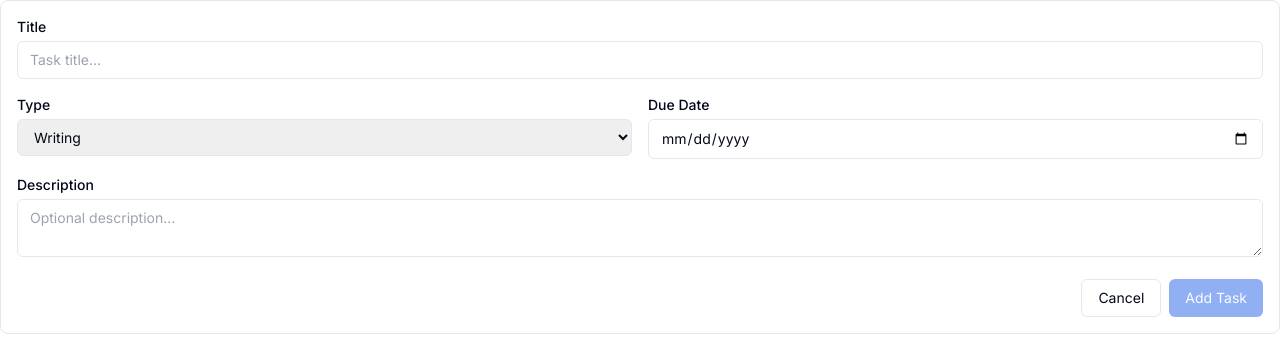
it: TaskForm › submit button is enabled when form is valid
Type "My valid task" into the field labelled "Title" at (640, 60), box top-left (17, 41), bottom-right (1263, 79)
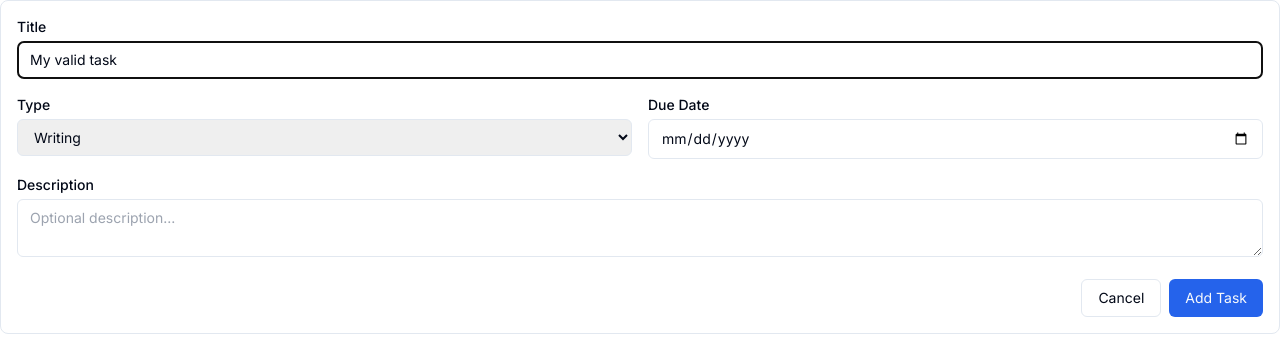
expect the button "Add Task" is enabled: met, box top-left (1169, 279), bottom-right (1263, 317)
